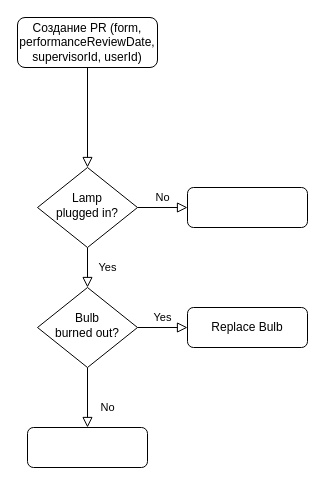
The diagram is 325 pixels wide and 485 high, and some of its shapes have lost their labels. Here are the shapes that lost their labels. From the top down, the centre of each, then its label:
At pixel 247 207: "Plug in lamp".
At pixel 87 447: "Repair Lamp".
